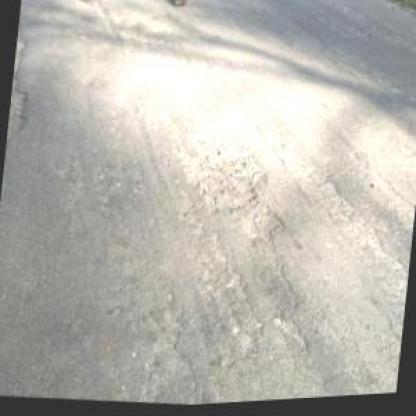pothole: (173, 140, 269, 219), (241, 206, 286, 246)
